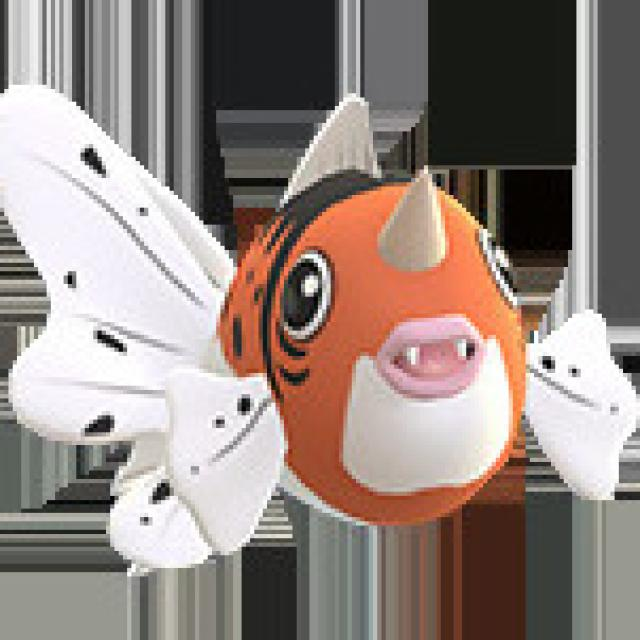Seaking: (116, 118, 582, 529)
